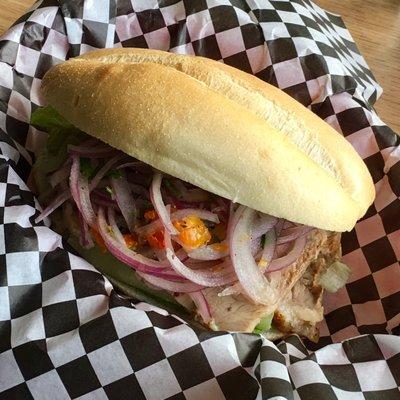soup: (11, 49, 373, 332)
